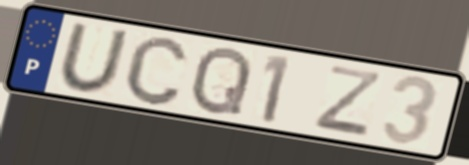1: (260, 54, 294, 126)
3: (379, 75, 444, 150)
C: (121, 33, 191, 108)
Q: (187, 44, 255, 118)
U: (56, 21, 132, 97)
Z: (311, 63, 385, 140)
